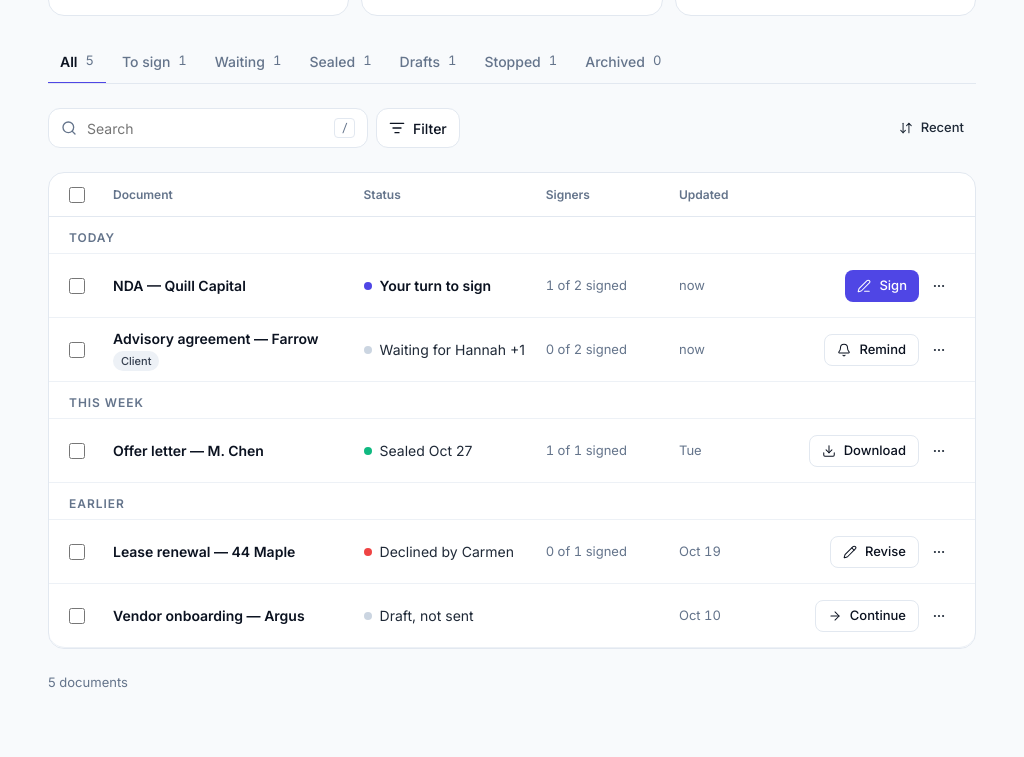
Test: DashboardPage › offers Delete when every selected document is a draft
The image size is (1024, 757).
(page scrolled)
Click the checkbox named "Select Vendor onboarding — Argus". click: (77, 616)
box: [69, 608, 85, 624]
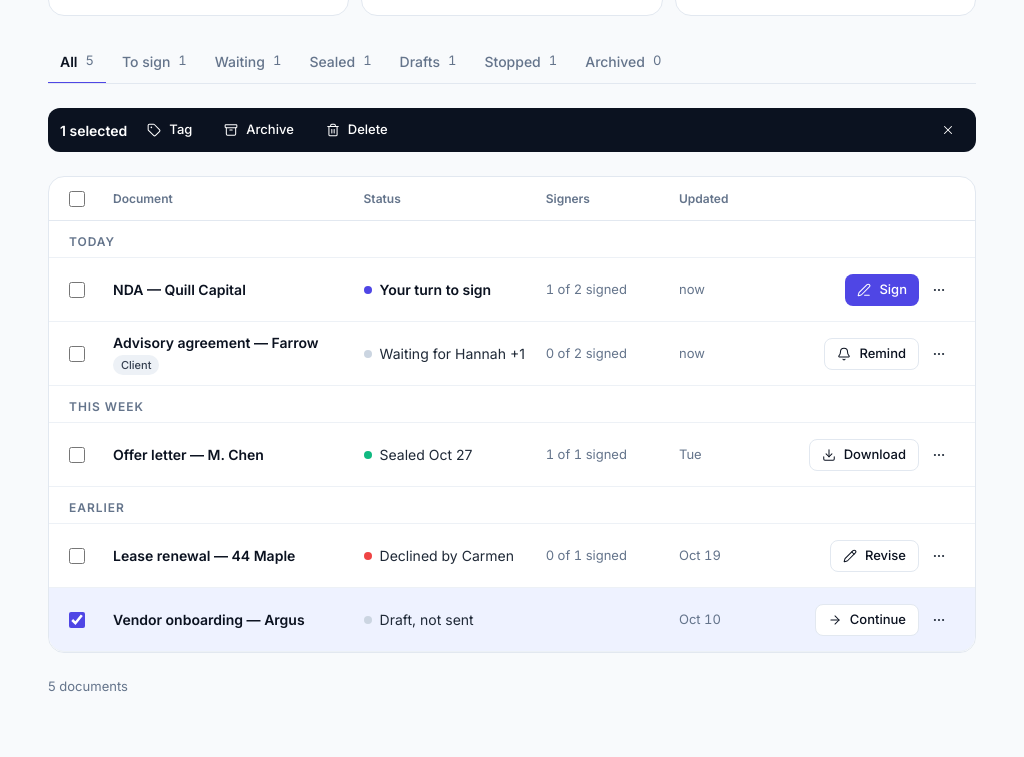
Result: the button "Delete" is shown at [314, 114, 400, 146]
